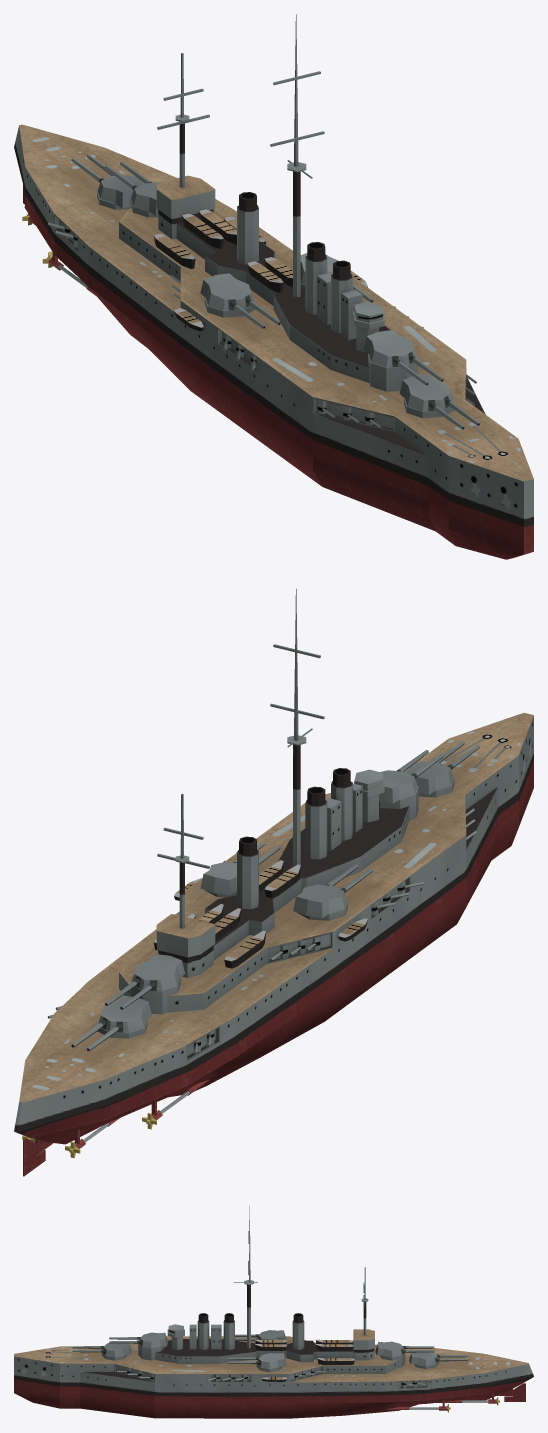
File: mn_courbet_1913.glb
3 renders of one model, top to bottom at view 1: azimuth 30°, elevation 25°; view 2: azimuth 150°, elevation 25°; view 3: azimuth 270°, elevation 25°, orthographic. The views are drawn at different scales.
Parts seen in each view (by area): view 1: MN_Courbet_Battleship_Hull, MN_Courbet_Turret5, MN_Courbet_Turret3, MN_Courbet_Turret6, MN_Courbet_Turret1, MN_Courbet_Boat_Right4, MN_Courbet_Boat_Right3, MN_Courbet_Turret2; view 2: MN_Courbet_Battleship_Hull, MN_Courbet_Turret2, MN_Courbet_Turret3, MN_Courbet_Turret1, MN_Courbet_Turret6, MN_Courbet_Turret4, MN_Courbet_Turret5, MN_Courbet_Boat_Right3; view 3: MN_Courbet_Battleship_Hull, MN_Courbet_Turret5, MN_Courbet_Turret2, MN_Courbet_Turret4, MN_Courbet_Turret6, MN_Courbet_Turret1, MN_Courbet_Rudder.
Part boxes in pixels (x1,y1,x2,y2): MN_Courbet_Battleship_Hull: [14, 14, 533, 559]; MN_Courbet_Turret5: [363, 330, 417, 367]; MN_Courbet_Turret3: [200, 273, 253, 310]; MN_Courbet_Turret6: [399, 374, 453, 411]; MN_Courbet_Turret1: [98, 174, 143, 208]; MN_Courbet_Boat_Right4: [182, 213, 223, 248]; MN_Courbet_Boat_Right3: [153, 233, 195, 268]; MN_Courbet_Turret2: [131, 182, 160, 215]; MN_Courbet_Battleship_Hull: [14, 588, 533, 1154]; MN_Courbet_Turret2: [131, 954, 184, 991]; MN_Courbet_Turret3: [293, 884, 346, 918]; MN_Courbet_Turret1: [98, 995, 151, 1032]; MN_Courbet_Turret6: [405, 761, 453, 794]; MN_Courbet_Turret4: [200, 862, 236, 895]; MN_Courbet_Turret5: [379, 770, 417, 803]; MN_Courbet_Boat_Right3: [224, 930, 266, 968]; MN_Courbet_Battleship_Hull: [14, 1205, 533, 1418]; MN_Courbet_Turret5: [139, 1332, 167, 1348]; MN_Courbet_Turret2: [375, 1341, 404, 1357]; MN_Courbet_Turret4: [258, 1353, 286, 1368]; MN_Courbet_Turret6: [103, 1343, 131, 1357]; MN_Courbet_Turret1: [409, 1352, 437, 1365]; MN_Courbet_Rudder: [504, 1383, 525, 1401].
Size of the model in its own units: 3.29 by 6.98 by 16.73.
2 materials, 2 textured.
